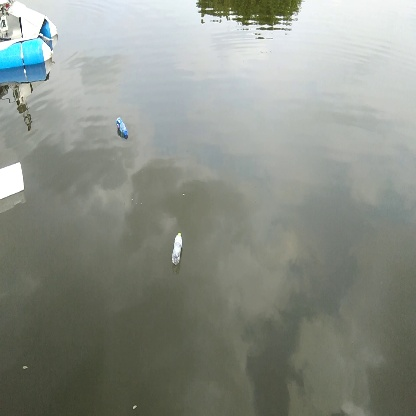bottle: (169, 231, 185, 266), (114, 115, 133, 142)
